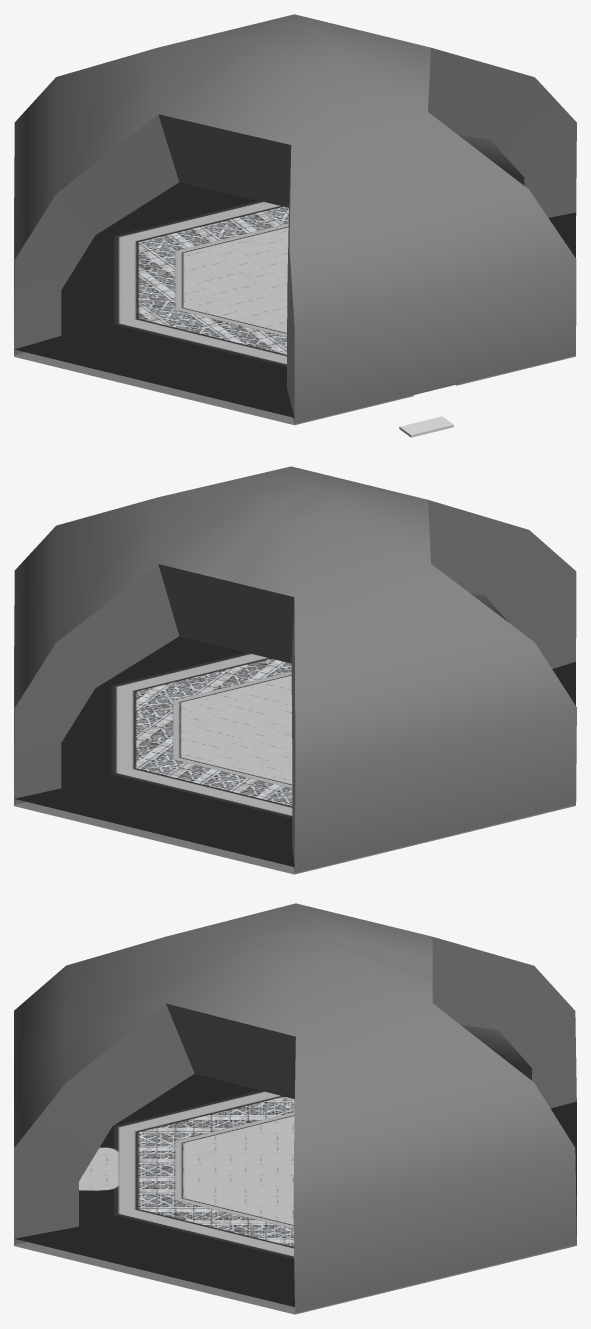
File: bossWall3.fbx
3 renders of one model, top to bottom at view 1: azimuth 30°, elevation 25°; view 2: azimuth 150°, elevation 25°; view 3: azimuth 270°, elevation 25°, orthographic.
Visible parts, largest first — view 1: bossWall, bossFloor, Object009, Box001; view 2: bossWall, bossFloor, Object009; view 3: bossWall, bossFloor, Object009.
Part boxes in pixels (x1,y1,x2,y2): bossWall: [14, 14, 576, 423]; bossFloor: [14, 182, 575, 417]; Object009: [14, 352, 575, 425]; Box001: [399, 416, 453, 437]; bossWall: [14, 466, 576, 873]; bossFloor: [14, 636, 575, 867]; Object009: [14, 802, 575, 874]; bossWall: [14, 903, 576, 1313]; bossFloor: [14, 1073, 576, 1307]; Object009: [14, 1242, 576, 1314].
Bounding box in the file's own units: 9206 × 4348 × 7973.
Materials: 3 (1 with a texture image).
